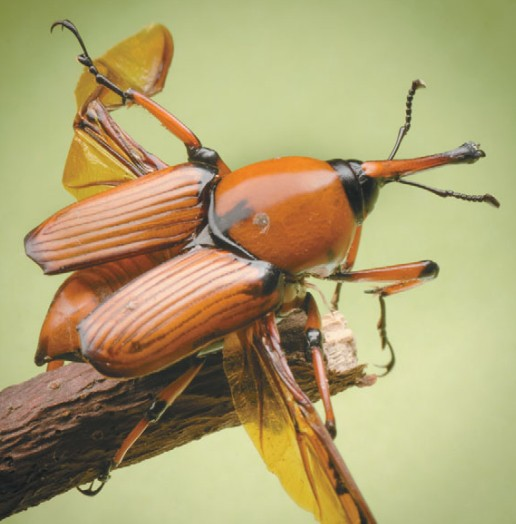dolgonosik: (31, 16, 494, 524)
